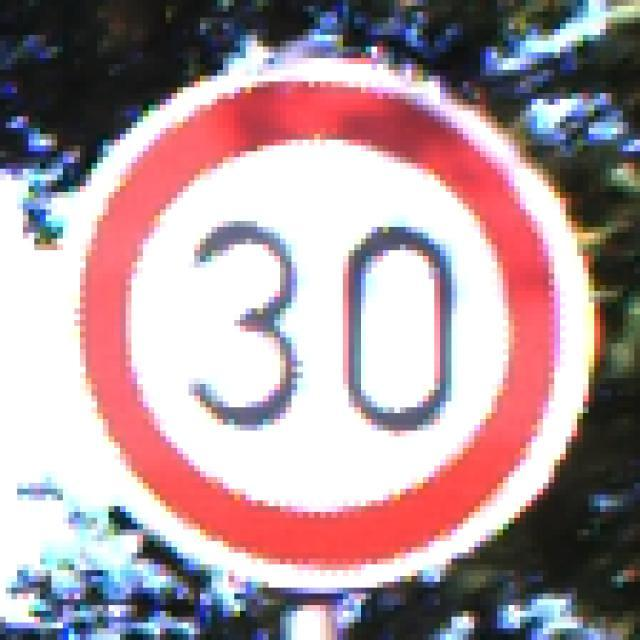Speed Limit -30-: (54, 55, 586, 585)
